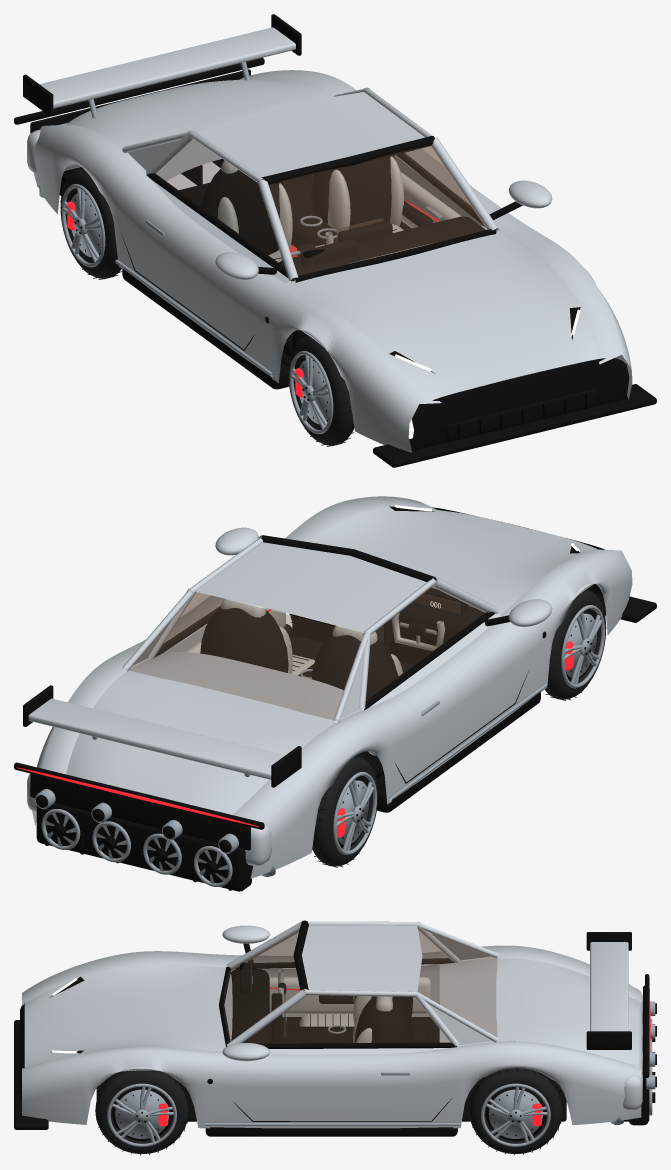
Rendered from DR_Asterion_LOD0.glb.
3 renders of one model, top to bottom at view 1: azimuth 30°, elevation 25°; view 2: azimuth 150°, elevation 25°; view 3: azimuth 270°, elevation 25°, orthographic. The views are drawn at different scales.
Parts seen in each view (by area): view 1: DR_Asterion_Roadster__DR_PearlAlloy, DR_Asterion_Roadster__DR_CarbonComposite, DR_Asterion_Roadster__DR_CopperSmokedGlass, AeroWing__DR_PearlAlloy, DR_Asterion_Roadster__DR_IvoryMicrofiber, Wheel_FL__DR_PerformanceRubber, Wheel_RL__DR_BrushedTitanium, Wheel_FL__DR_BrushedTitanium, Wheel_RL__DR_PerformanceRubber, DR_Asterion_Roadster__DR_BrushedTitanium, AeroWing__DR_CarbonComposite; view 2: DR_Asterion_Roadster__DR_PearlAlloy, DR_Asterion_Roadster__DR_CarbonComposite, DR_Asterion_Roadster__DR_CopperSmokedGlass, AeroWing__DR_PearlAlloy, DR_Asterion_Roadster__DR_BrushedTitanium, Wheel_RL__DR_PerformanceRubber, Wheel_RL__DR_BrushedTitanium, Wheel_FL__DR_BrushedTitanium, Wheel_FL__DR_PerformanceRubber, DR_Asterion_Roadster__DR_IvoryMicrofiber, AeroWing__DR_CarbonComposite, DR_Asterion_Roadster__DR_RedLED (+1 smaller); view 3: DR_Asterion_Roadster__DR_PearlAlloy, DR_Asterion_Roadster__DR_CopperSmokedGlass, DR_Asterion_Roadster__DR_CarbonComposite, AeroWing__DR_PearlAlloy, Wheel_RR__DR_PerformanceRubber, Wheel_FR__DR_PerformanceRubber, DR_Asterion_Roadster__DR_IvoryMicrofiber, Wheel_RR__DR_BrushedTitanium, Wheel_FR__DR_BrushedTitanium, DR_Asterion_Roadster__DR_BrushedTitanium, AeroWing__DR_CarbonComposite, Wheel_RR__DR_CarbonComposite (+1 smaller).
Boxes of the visible parts, x1=… form: DR_Asterion_Roadster__DR_PearlAlloy: x1=27, y1=70, x2=632, y2=452; DR_Asterion_Roadster__DR_CarbonComposite: x1=14, y1=57, x2=656, y2=467; DR_Asterion_Roadster__DR_CopperSmokedGlass: x1=155, y1=138, x2=487, y2=279; AeroWing__DR_PearlAlloy: x1=40, y1=27, x2=295, y2=108; DR_Asterion_Roadster__DR_IvoryMicrofiber: x1=218, y1=156, x2=461, y2=262; Wheel_FL__DR_PerformanceRubber: x1=288, y1=335, x2=354, y2=445; Wheel_RL__DR_BrushedTitanium: x1=61, y1=184, x2=105, y2=267; Wheel_FL__DR_BrushedTitanium: x1=289, y1=351, x2=333, y2=434; Wheel_RL__DR_PerformanceRubber: x1=60, y1=167, x2=121, y2=278; DR_Asterion_Roadster__DR_BrushedTitanium: x1=39, y1=185, x2=442, y2=376; AeroWing__DR_CarbonComposite: x1=23, y1=14, x2=301, y2=116; DR_Asterion_Roadster__DR_PearlAlloy: x1=27, y1=496, x2=632, y2=878; DR_Asterion_Roadster__DR_CarbonComposite: x1=14, y1=506, x2=656, y2=891; DR_Asterion_Roadster__DR_CopperSmokedGlass: x1=125, y1=583, x2=485, y2=720; AeroWing__DR_PearlAlloy: x1=28, y1=698, x2=284, y2=779; DR_Asterion_Roadster__DR_BrushedTitanium: x1=35, y1=669, x2=547, y2=886; Wheel_RL__DR_PerformanceRubber: x1=312, y1=755, x2=378, y2=866; Wheel_RL__DR_BrushedTitanium: x1=333, y1=771, x2=377, y2=854; Wheel_FL__DR_BrushedTitanium: x1=561, y1=605, x2=605, y2=688; Wheel_FL__DR_PerformanceRubber: x1=545, y1=589, x2=606, y2=699; DR_Asterion_Roadster__DR_IvoryMicrofiber: x1=185, y1=598, x2=402, y2=755; AeroWing__DR_CarbonComposite: x1=23, y1=685, x2=301, y2=787; DR_Asterion_Roadster__DR_RedLED: x1=16, y1=609, x2=271, y2=826; DR_Asterion_Roadster__DR_PearlAlloy: x1=22, y1=920, x2=642, y2=1128; DR_Asterion_Roadster__DR_CopperSmokedGlass: x1=224, y1=926, x2=496, y2=1043; DR_Asterion_Roadster__DR_CarbonComposite: x1=14, y1=920, x2=656, y2=1136; AeroWing__DR_PearlAlloy: x1=590, y1=942, x2=628, y2=1031; Wheel_RR__DR_PerformanceRubber: x1=469, y1=1068, x2=562, y2=1153; Wheel_FR__DR_PerformanceRubber: x1=95, y1=1070, x2=188, y2=1153; DR_Asterion_Roadster__DR_IvoryMicrofiber: x1=269, y1=977, x2=430, y2=1042; Wheel_RR__DR_BrushedTitanium: x1=481, y1=1083, x2=550, y2=1146; Wheel_FR__DR_BrushedTitanium: x1=107, y1=1083, x2=176, y2=1146; DR_Asterion_Roadster__DR_BrushedTitanium: x1=205, y1=1001, x2=655, y2=1125; AeroWing__DR_CarbonComposite: x1=586, y1=932, x2=631, y2=1049; Wheel_RR__DR_CarbonComposite: x1=469, y1=1068, x2=562, y2=1155.
Bounding box in the file's own units: 2.31 × 1.26 × 4.82.
9 materials, 1 textured.
